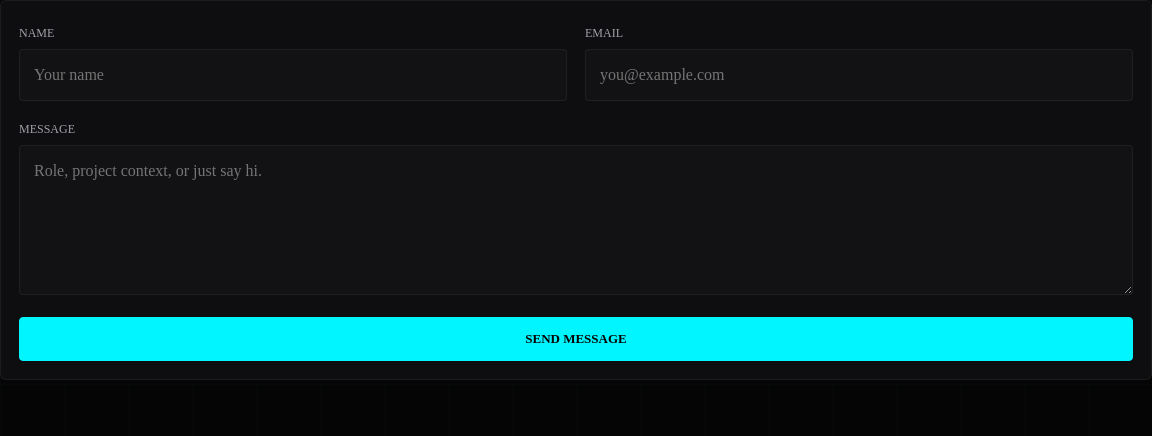
Test: ContactForm › should show success and reset the form when the endpoint accepts the message
The width and height of the screenshot is (1152, 436).
In the field labelled "Name": point(293, 75) [19,49,567,101], type "Huy"
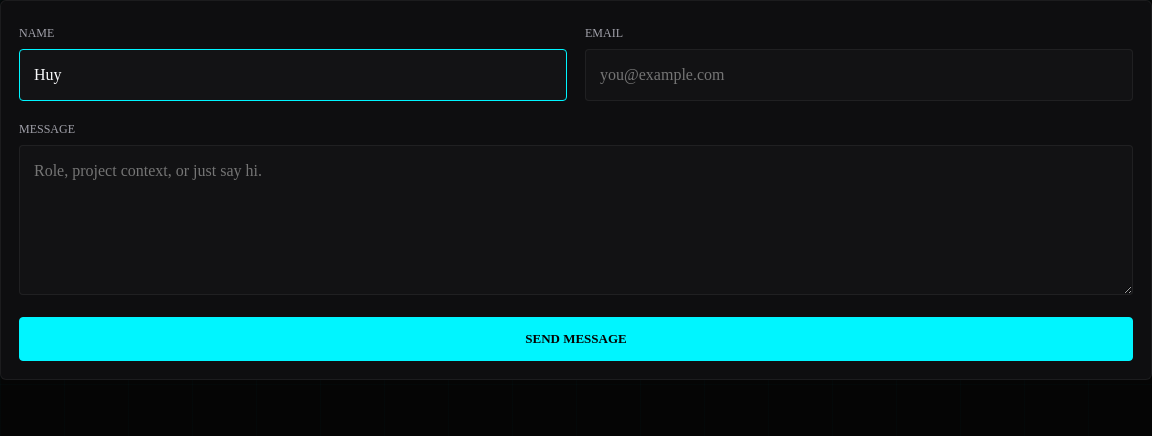
In the field labelled "Email": point(859, 75) [585,49,1133,101], type "huy@example.com"
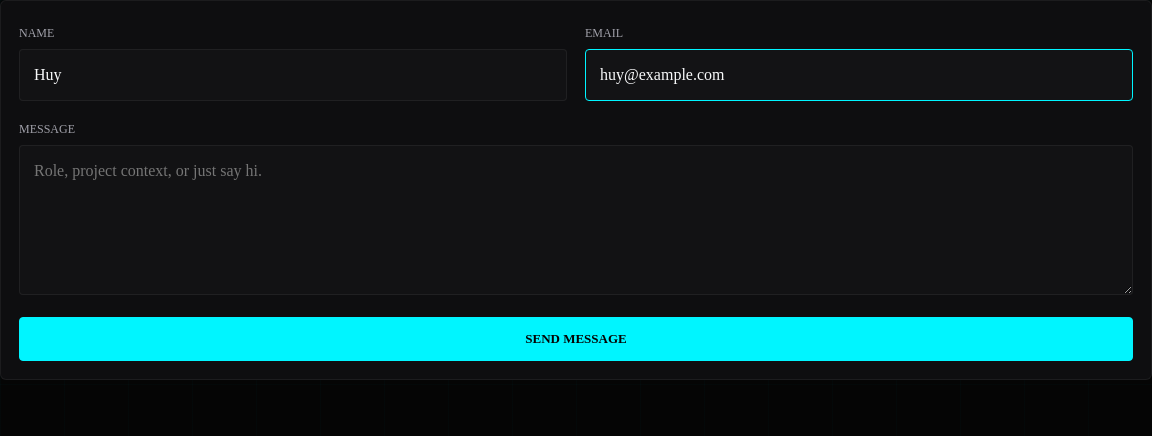
In the text box labelled "Message": point(576, 220) [19,145,1133,295], type "Hi"
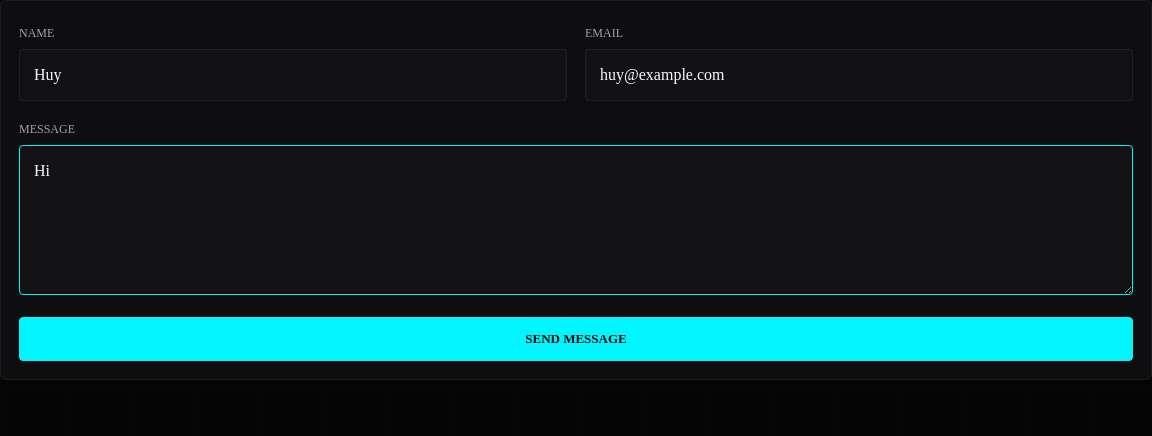
Click the button "Send message": point(576, 339) [19,317,1133,361]
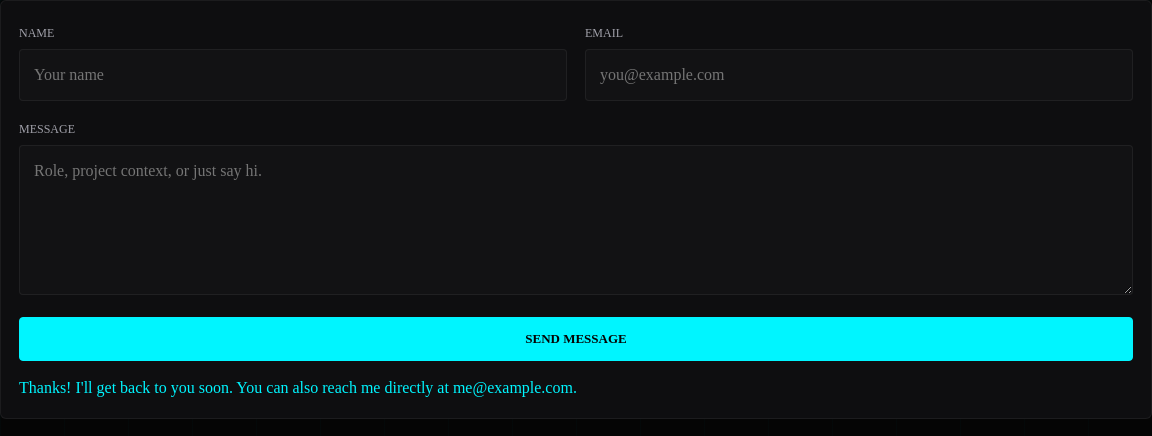
Now the message shows "Thanks!", box [19,379,449,396]
Now the field labelled "Name" is empty, box [19,49,567,101]
